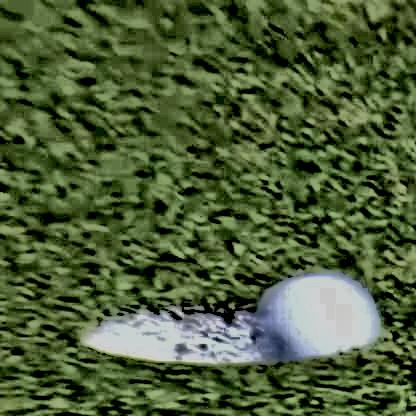golfball: (251, 286, 377, 377)
